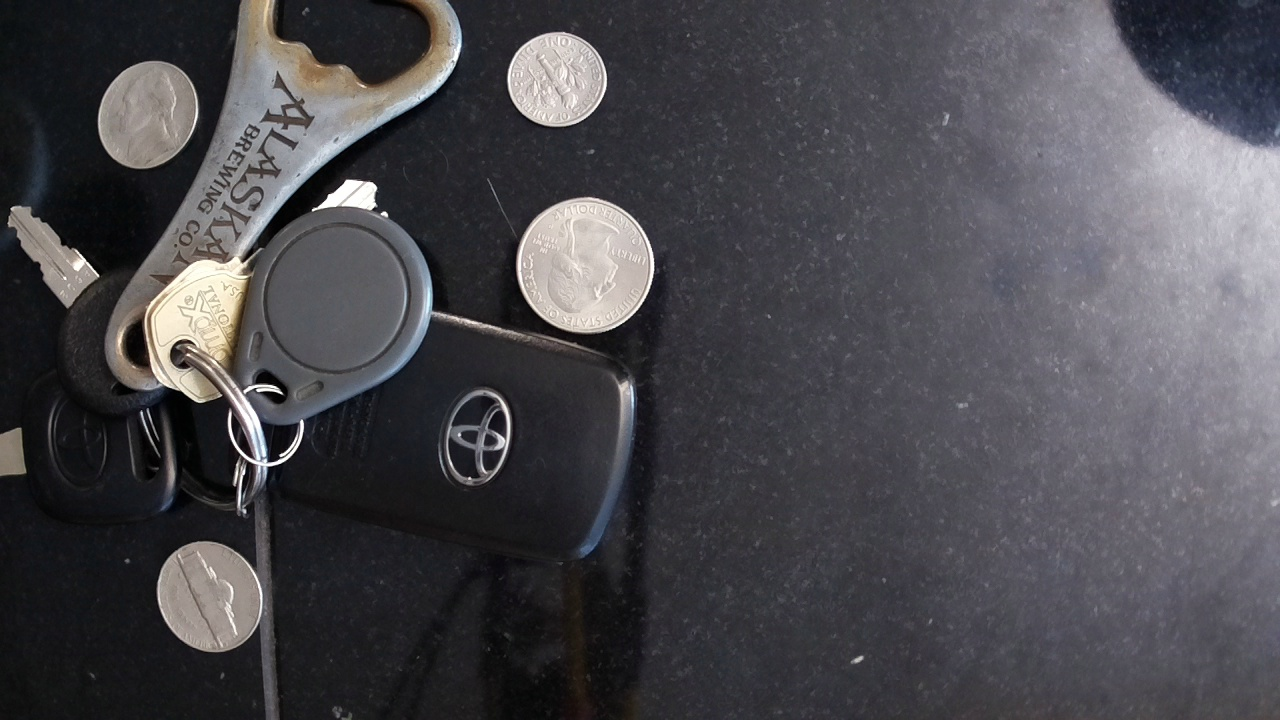dime: (504, 28, 610, 130)
nickel: (152, 538, 266, 658), (94, 53, 202, 169)
quarter: (514, 194, 656, 336)
